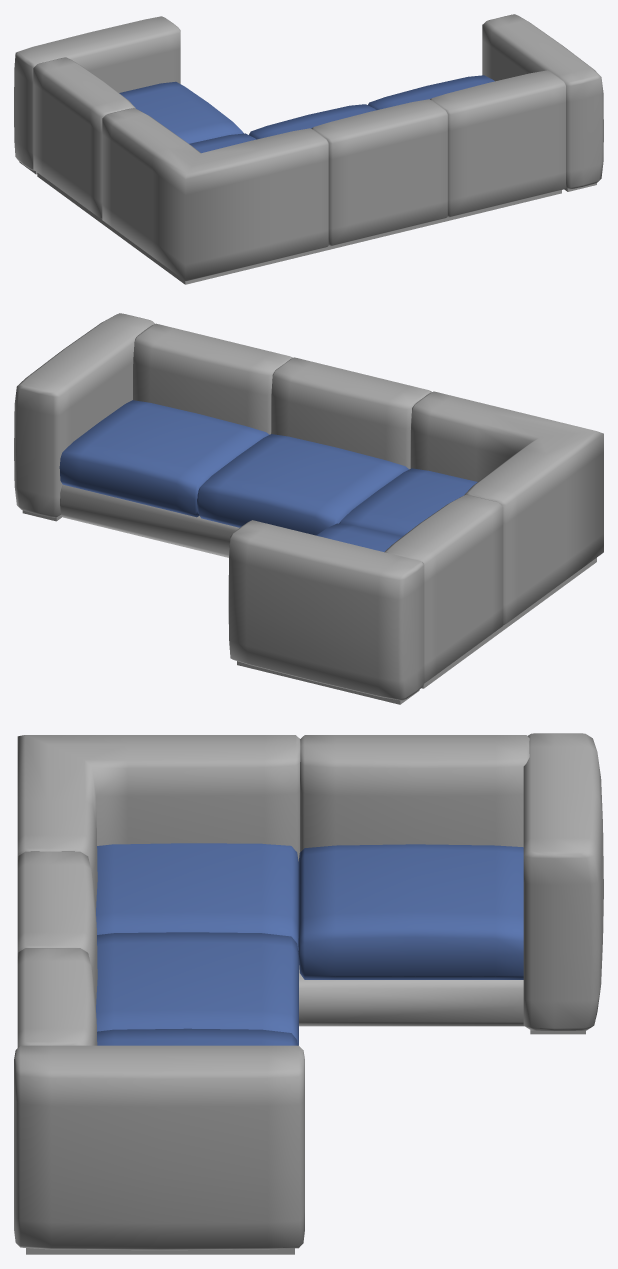
Rendered from meko knba corner 15.fbx.
The picture shows the model from 3 angles, top to bottom: view 1: azimuth 30°, elevation 25°; view 2: azimuth 150°, elevation 25°; view 3: azimuth 270°, elevation 25°; orthographic projection. The views are drawn at different scales.
Parts seen in each view (by area): view 1: back (×3), angle_back, left, right, seat (×4), legs; view 2: back (×3), seat (×4), left, angle_back, right, base, legs; view 3: seat (×4), right, back (×3), angle_back, left, base, legs.
Boxes of the visible parts, bbox=[...] form: back (×3): bbox=[33, 57, 565, 246]; angle_back: bbox=[102, 108, 328, 281]; left: bbox=[14, 16, 180, 170]; right: bbox=[482, 14, 603, 189]; seat (×4): bbox=[119, 75, 494, 153]; legs: bbox=[19, 161, 596, 284]; back (×3): bbox=[133, 323, 503, 682]; seat (×4): bbox=[59, 400, 477, 551]; left: bbox=[228, 520, 424, 700]; angle_back: bbox=[410, 391, 603, 624]; right: bbox=[14, 313, 154, 517]; base: bbox=[60, 484, 239, 557]; legs: bbox=[22, 510, 596, 704]; seat (×4): bbox=[96, 843, 523, 1045]; right: bbox=[14, 1045, 304, 1250]; back (×3): bbox=[17, 735, 529, 1047]; angle_back: bbox=[17, 735, 300, 909]; left: bbox=[523, 733, 603, 1030]; base: bbox=[299, 965, 524, 1026]; legs: bbox=[26, 1030, 585, 1254].
Bounding box in the file's own units: 266 × 66.59 × 192.
